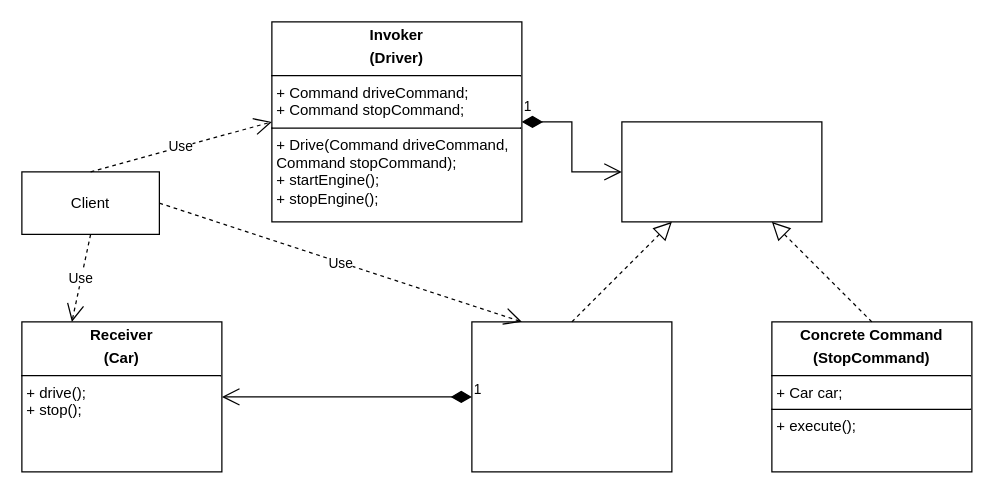
This 994x494 diagram has some shape labels left out. The shapes that lost their labels are listed below. From the top down, each one's centre as x and y in pixels, then its label:
At point (721, 171): "<<Interface>> Command + execute();".
At point (571, 396): "Concrete Command (DriveCommand) + Car car; + execute();".
